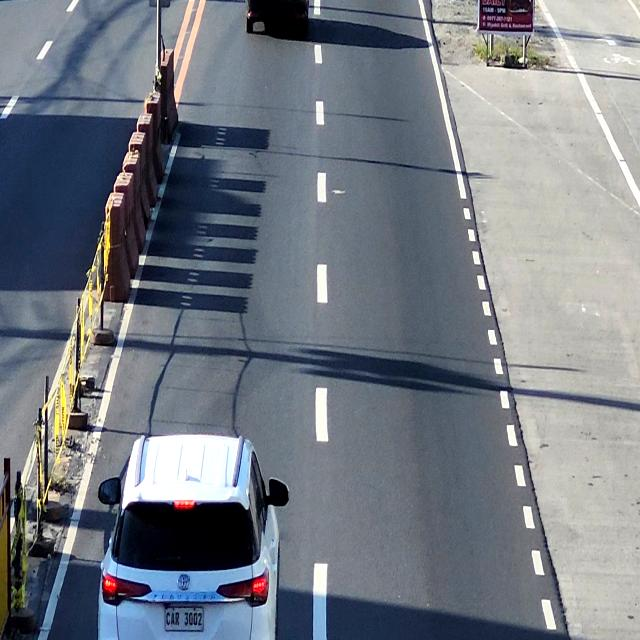Car: (94, 435, 280, 640), (241, 0, 312, 37)
License-Plate: (163, 602, 204, 636)
